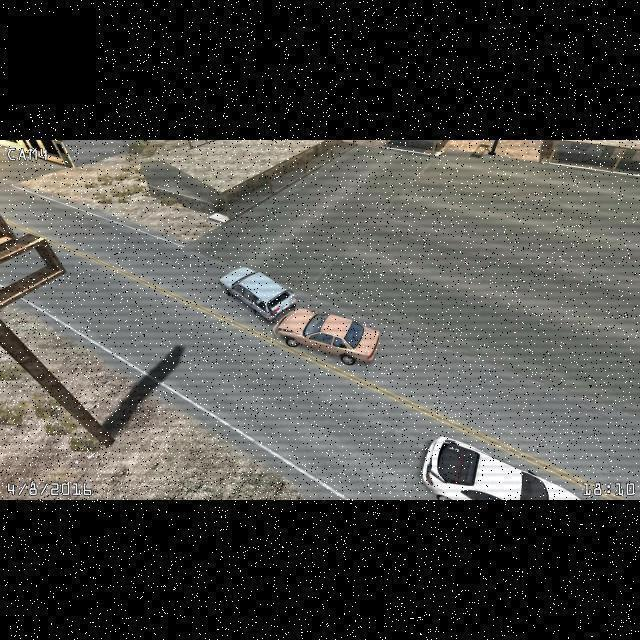accident: (215, 264, 382, 366)
